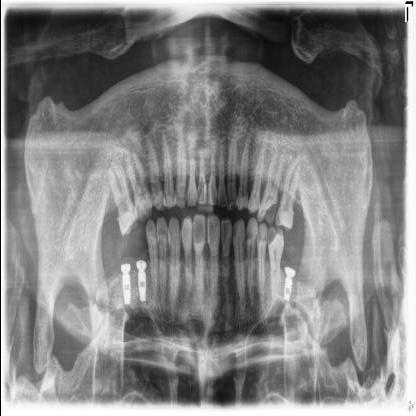Bicon: (119, 274, 136, 312), (280, 276, 298, 308), (138, 270, 148, 308)
